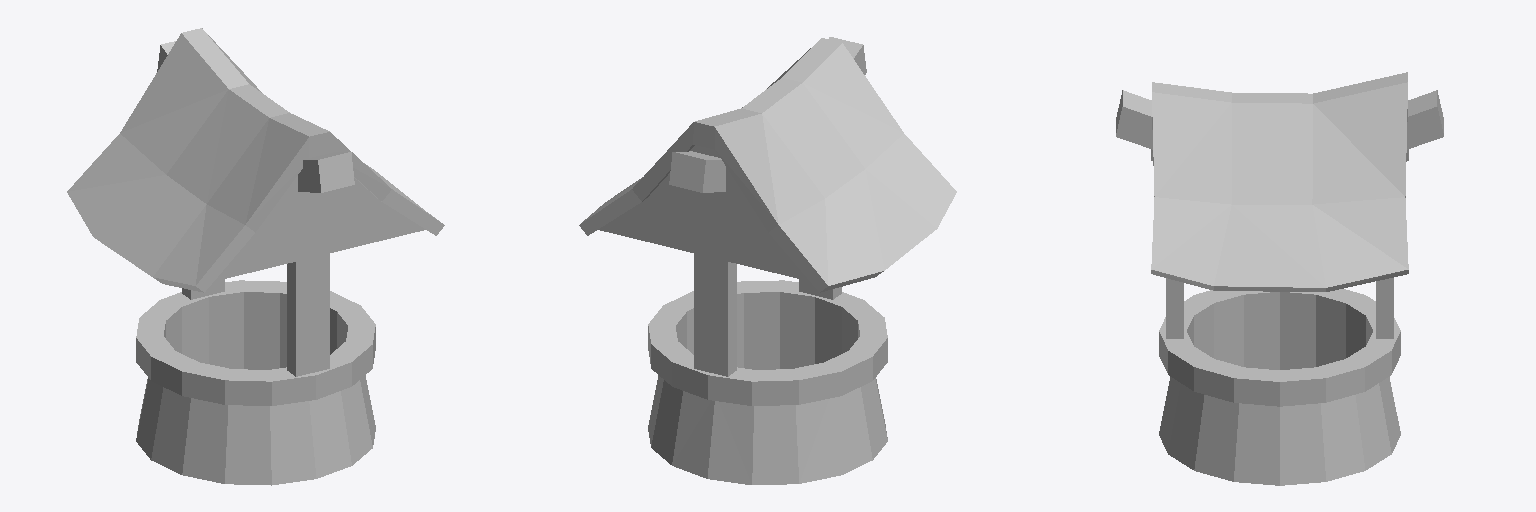
File: well.obj
3 renders of one model, left to right at view 1: azimuth 30°, elevation 25°; view 2: azimuth 150°, elevation 25°; view 3: azimuth 270°, elevation 25°, orthographic.
Visible parts, largest first — view 1: Well_w_Well_w_0; view 2: Well_w_Well_w_0; view 3: Well_w_Well_w_0.
Boxes of the visible parts, box(x1,y1,x2,y2) form: Well_w_Well_w_0: box(67, 28, 444, 485); Well_w_Well_w_0: box(579, 37, 956, 484); Well_w_Well_w_0: box(1116, 72, 1443, 485).
Size of the model in its own units: 0.4201 by 0.513 by 0.4275.